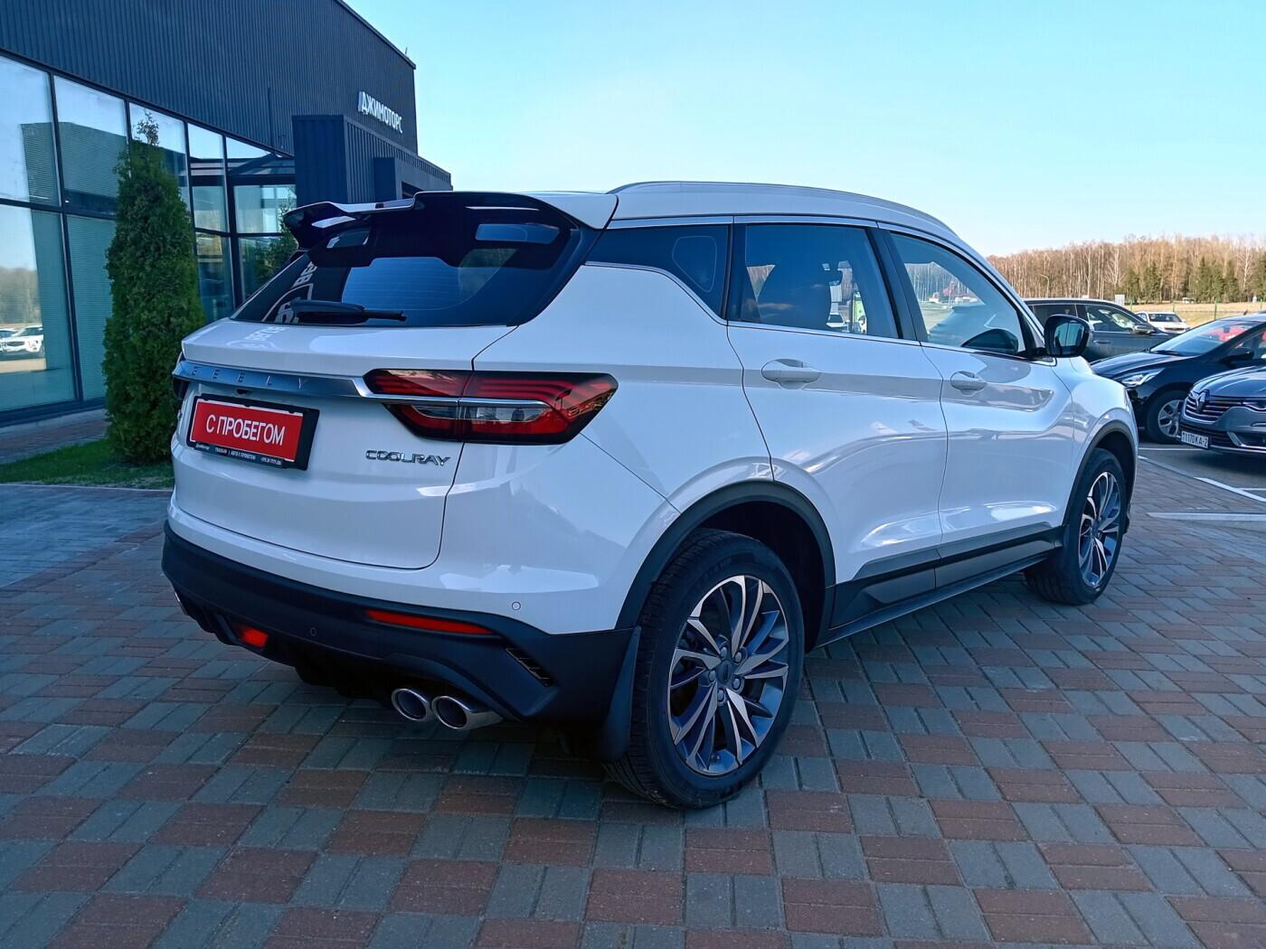Coolray_2019-2023: (149, 177, 1148, 808)
